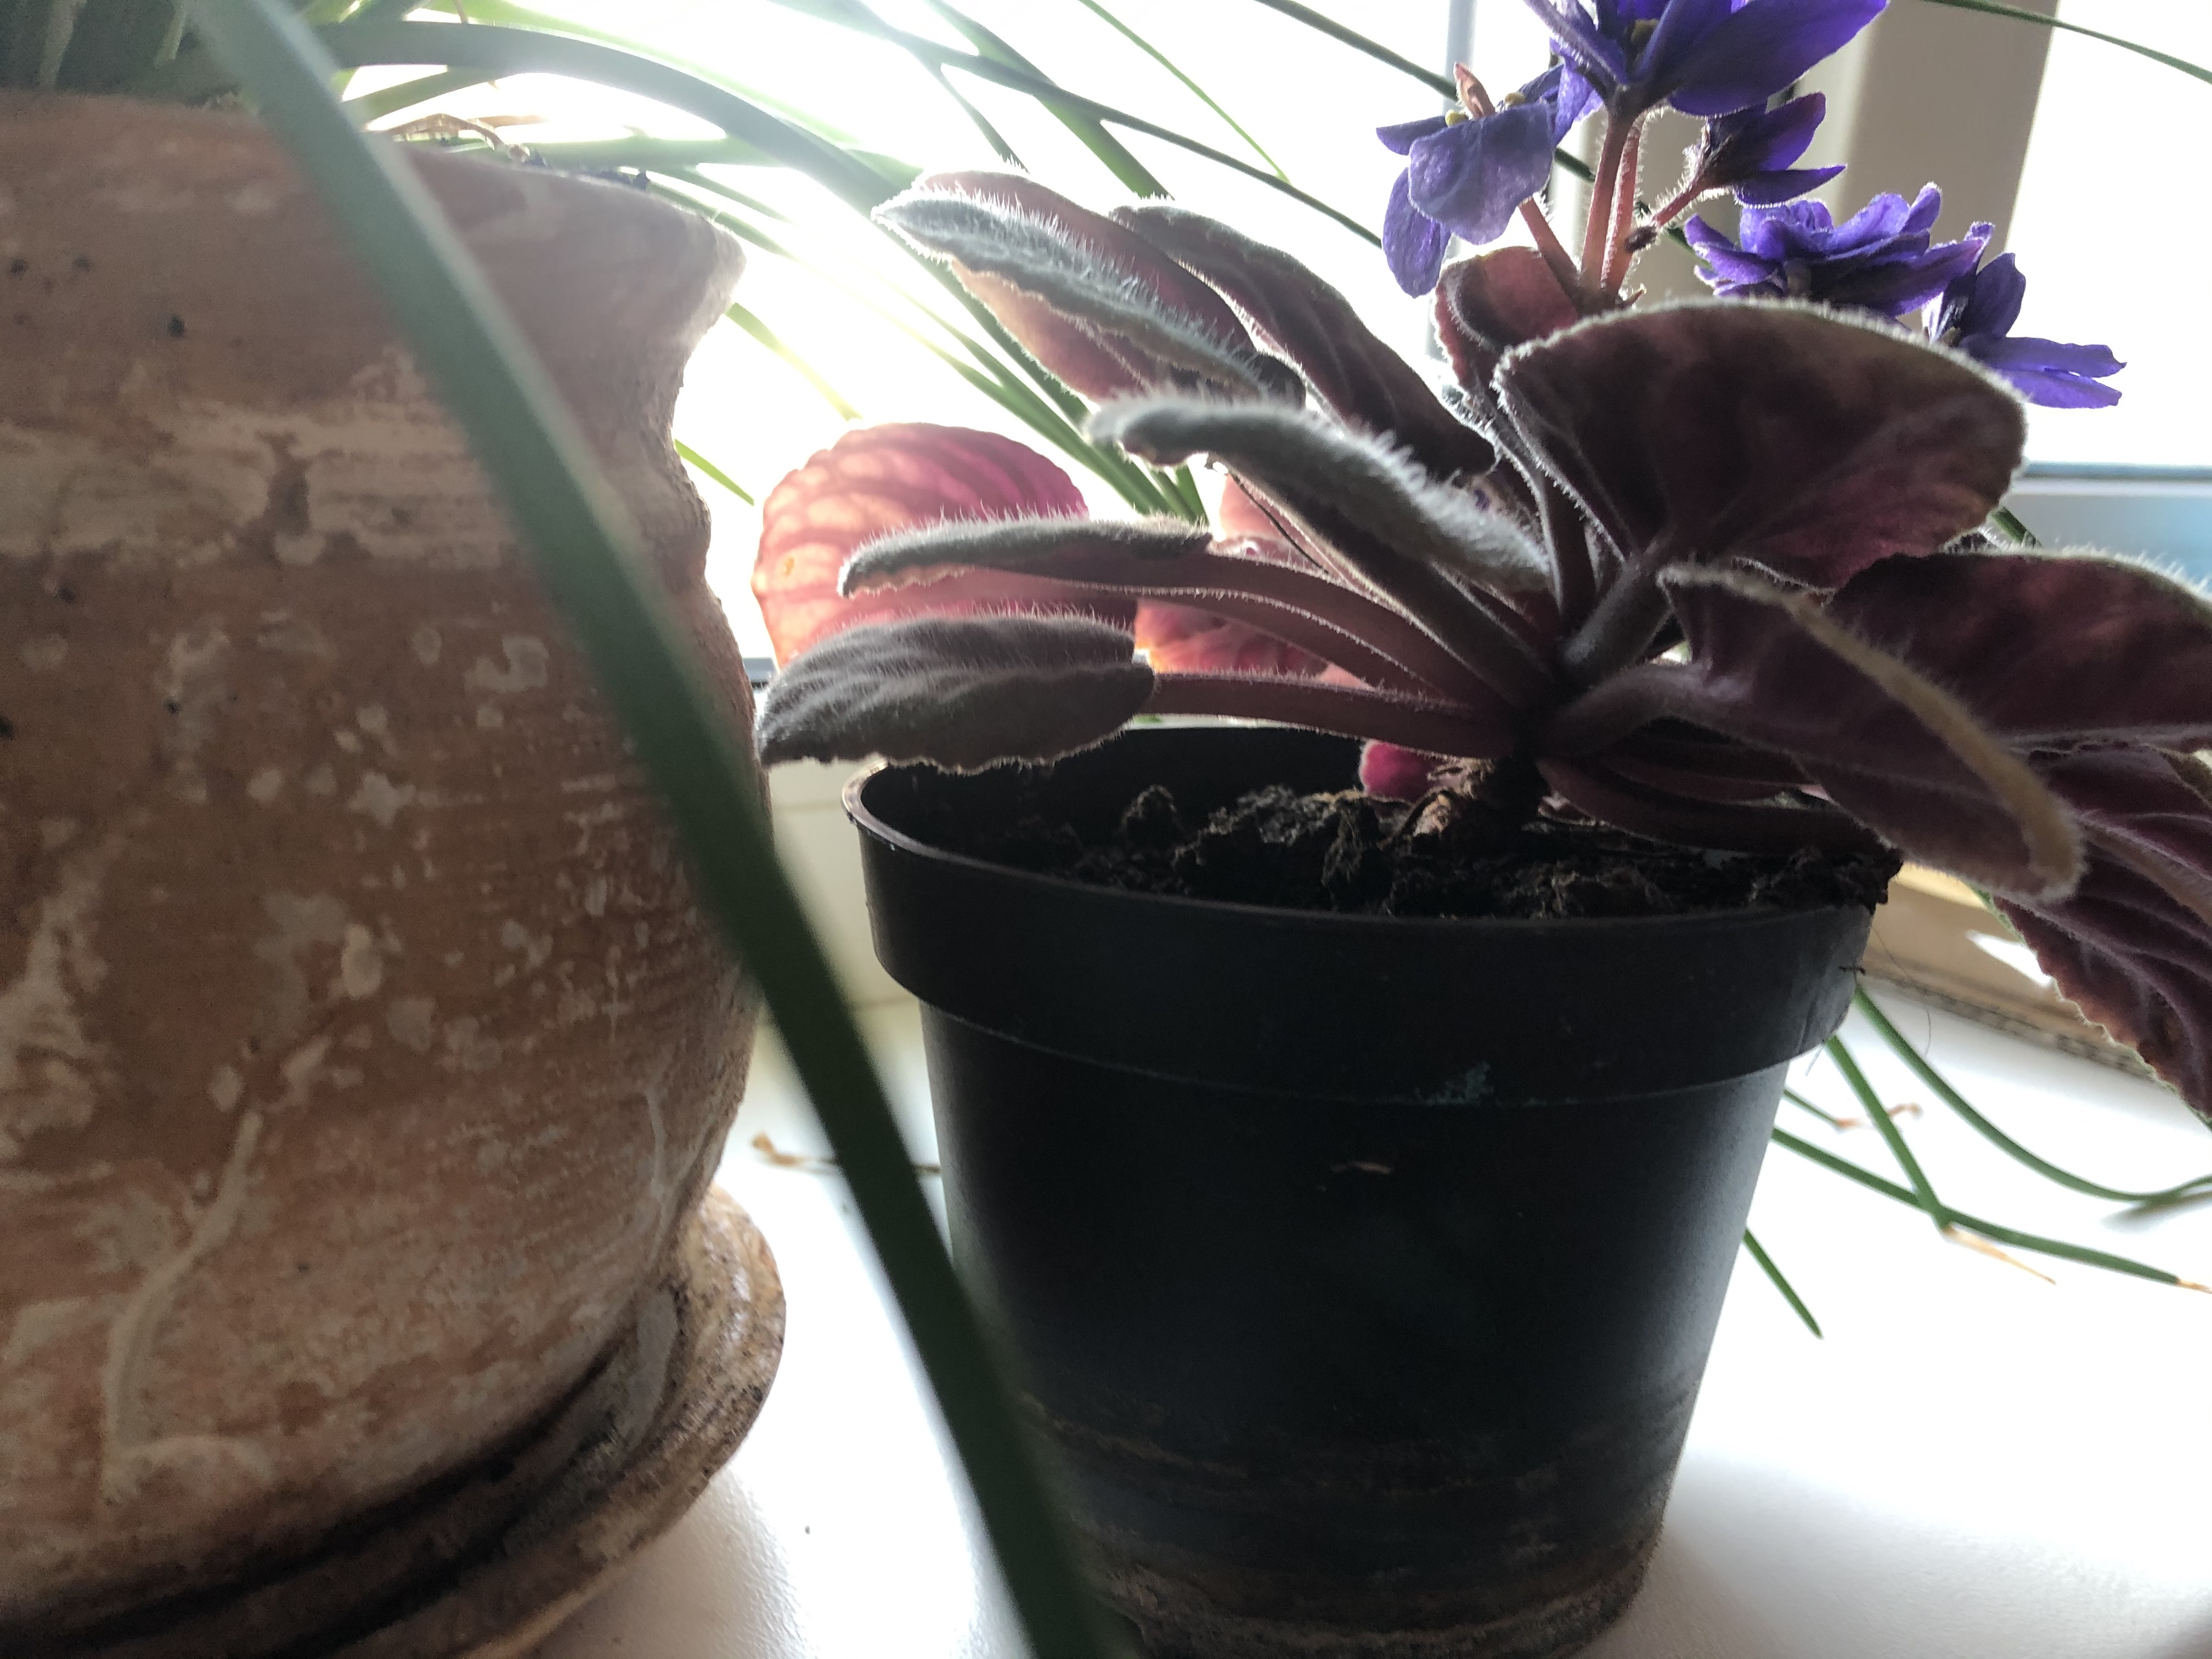ignore: (733, 3, 2113, 903)
